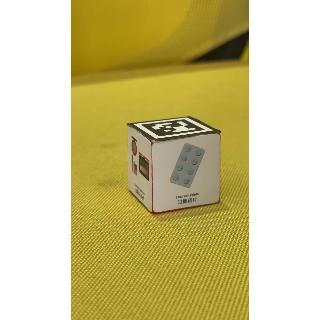Tablet: (150, 141, 219, 208)
